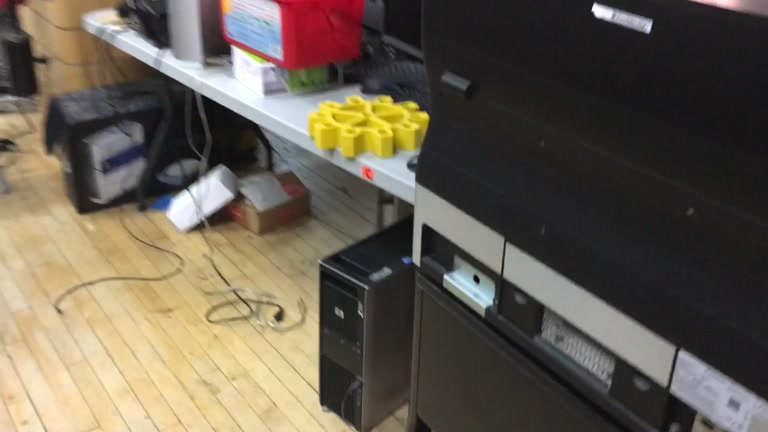gear: (306, 94, 433, 158)
